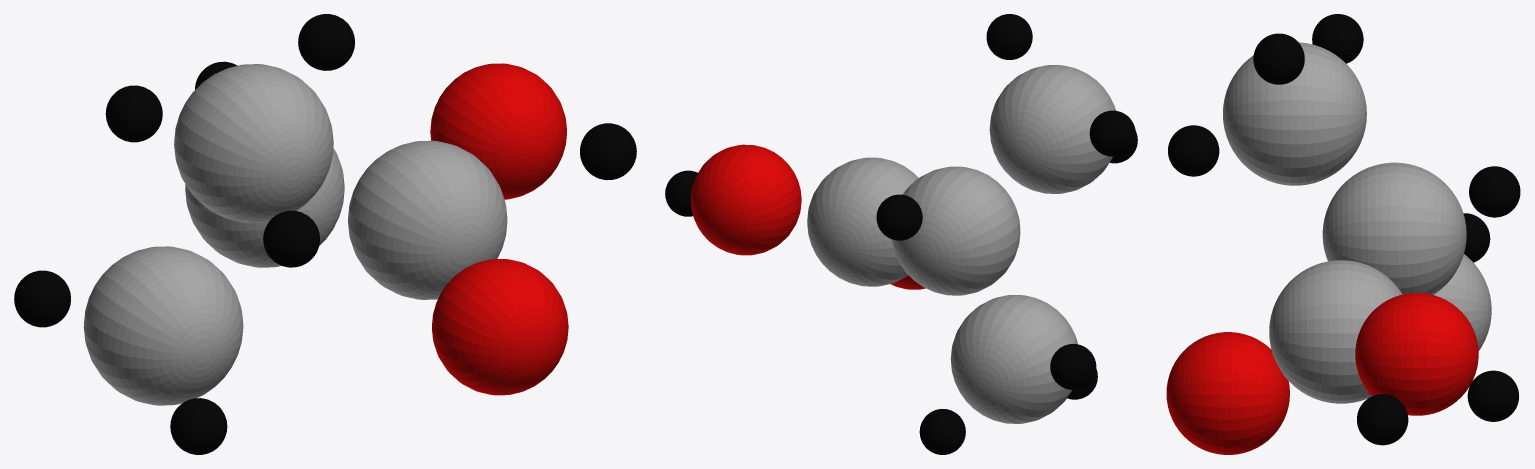
Rendered from Propionic Acid.glb.
3 renders of one model, left to right at view 1: azimuth 30°, elevation 25°; view 2: azimuth 150°, elevation 25°; view 3: azimuth 270°, elevation 25°, orthographic. The views are drawn at different scales.
Visible parts, largest first — view 1: world; view 2: world; view 3: world.
Part boxes in pixels (x1,y1,x2,y2): world: (14, 14, 636, 454); world: (665, 14, 1137, 454); world: (1166, 14, 1520, 454).
Size of the model in its own units: 5.77 by 4.28 by 3.44.
